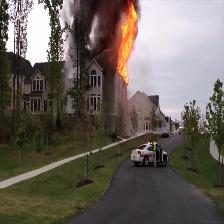fire: (120, 5, 134, 75)
smoke: (74, 1, 118, 46)
